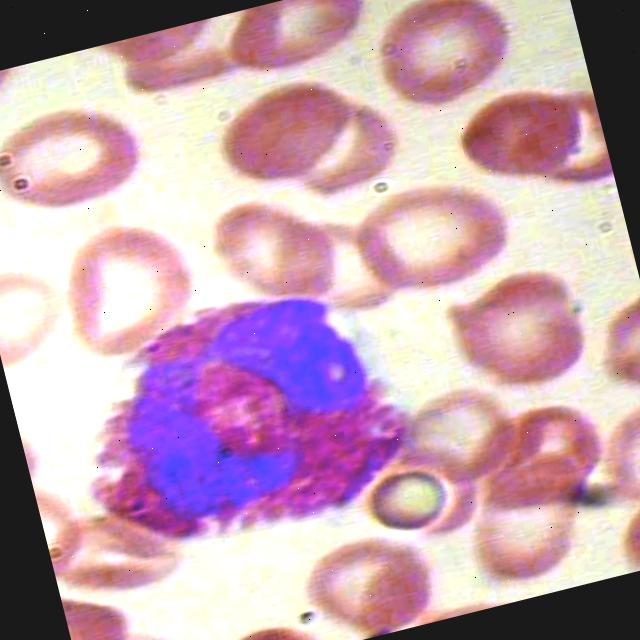RBC: (48, 202, 216, 378), (335, 154, 521, 312), (433, 255, 604, 408), (0, 86, 154, 232), (451, 444, 607, 588), (354, 0, 525, 127), (206, 66, 368, 200), (202, 182, 348, 324), (295, 519, 449, 640), (448, 76, 590, 193), (212, 0, 385, 89), (280, 92, 412, 204), (355, 462, 454, 543)
WBC: (42, 247, 428, 580)
